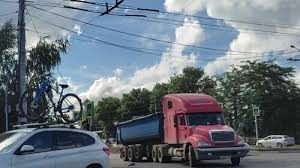Car: (258, 135, 295, 148)
